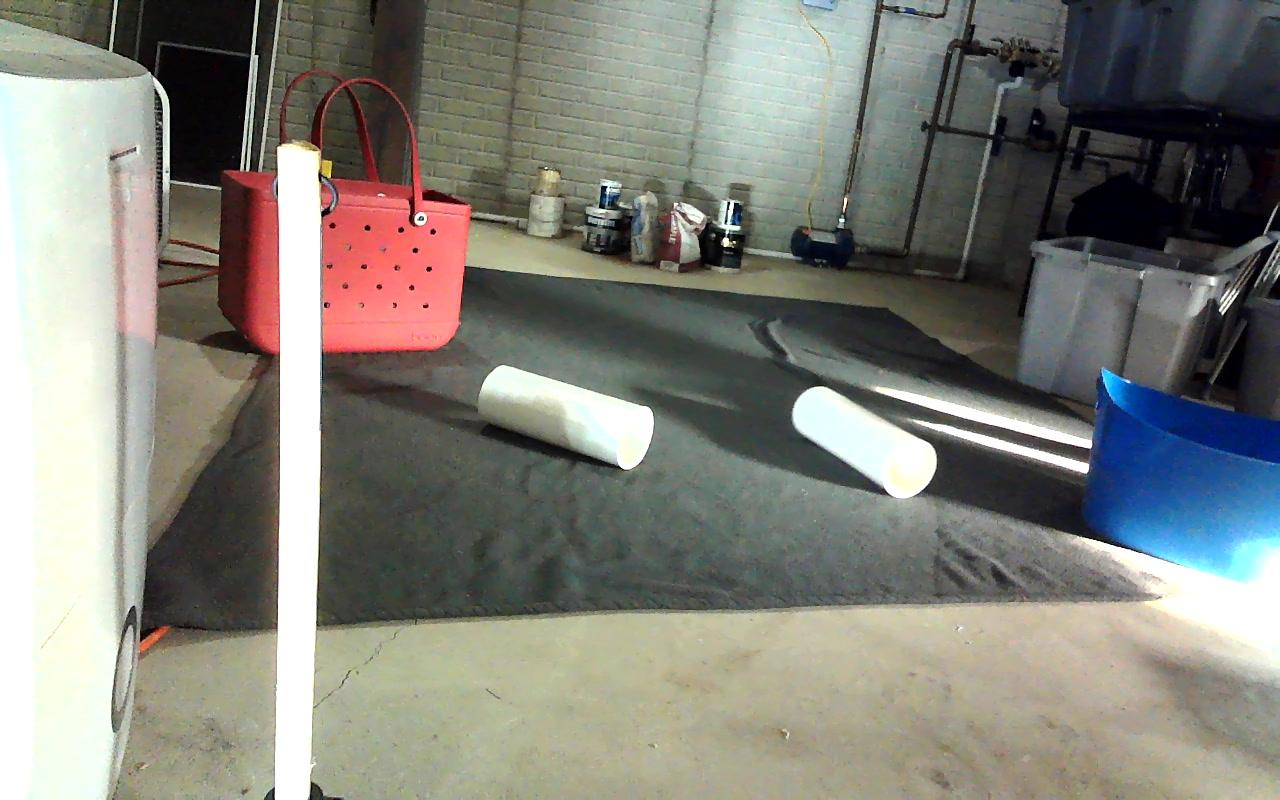coral: (478, 364, 654, 471), (793, 387, 936, 498)
